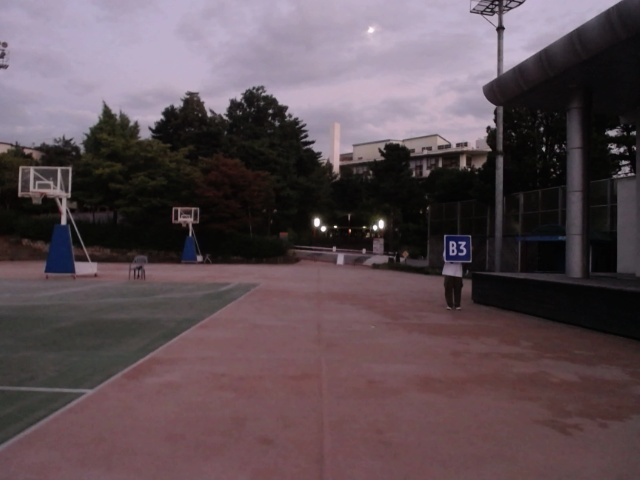delivery_b3: (443, 233, 473, 263)
